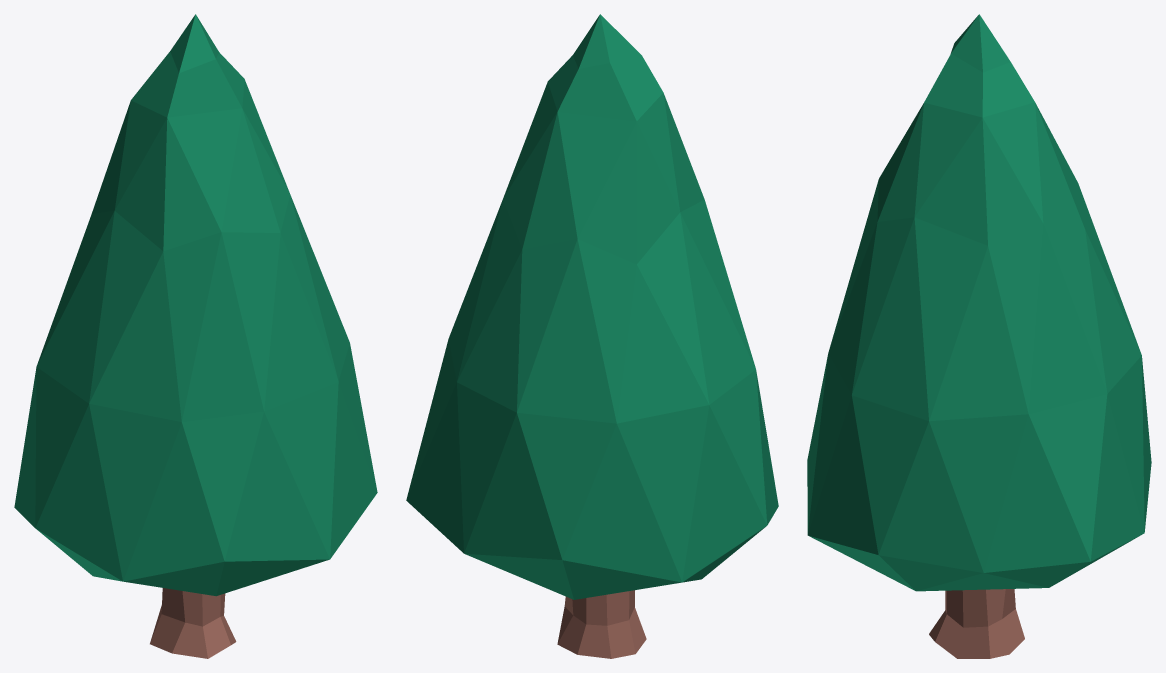
Rendered from tree.fbx.
3 renders of one model, left to right at view 1: azimuth 30°, elevation 25°; view 2: azimuth 150°, elevation 25°; view 3: azimuth 270°, elevation 25°, orthographic.
Visible parts, largest first — view 1: Tree; view 2: Tree; view 3: Tree.
Boxes of the visible parts, x1,y1,x2,y2 form: Tree: (14,14,377,658); Tree: (406,14,778,658); Tree: (807,14,1151,658).
Size of the model in its own units: 231 by 440 by 218.
